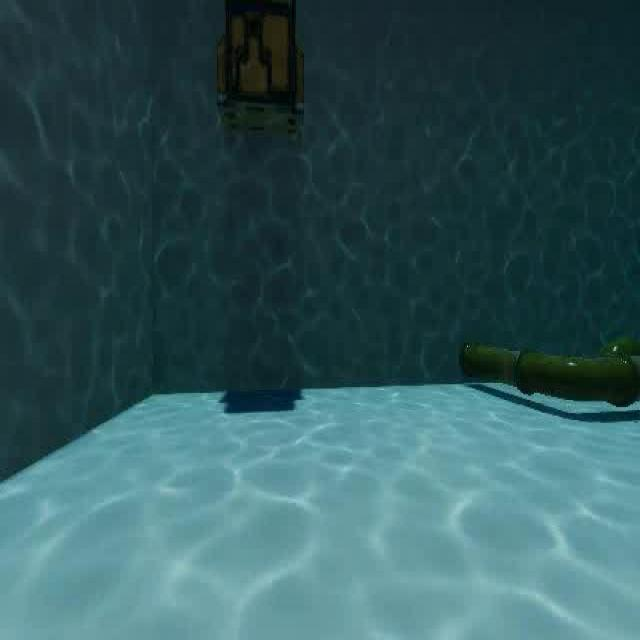Control Panel: (209, 0, 318, 152)
Pipe: (454, 319, 640, 440)
